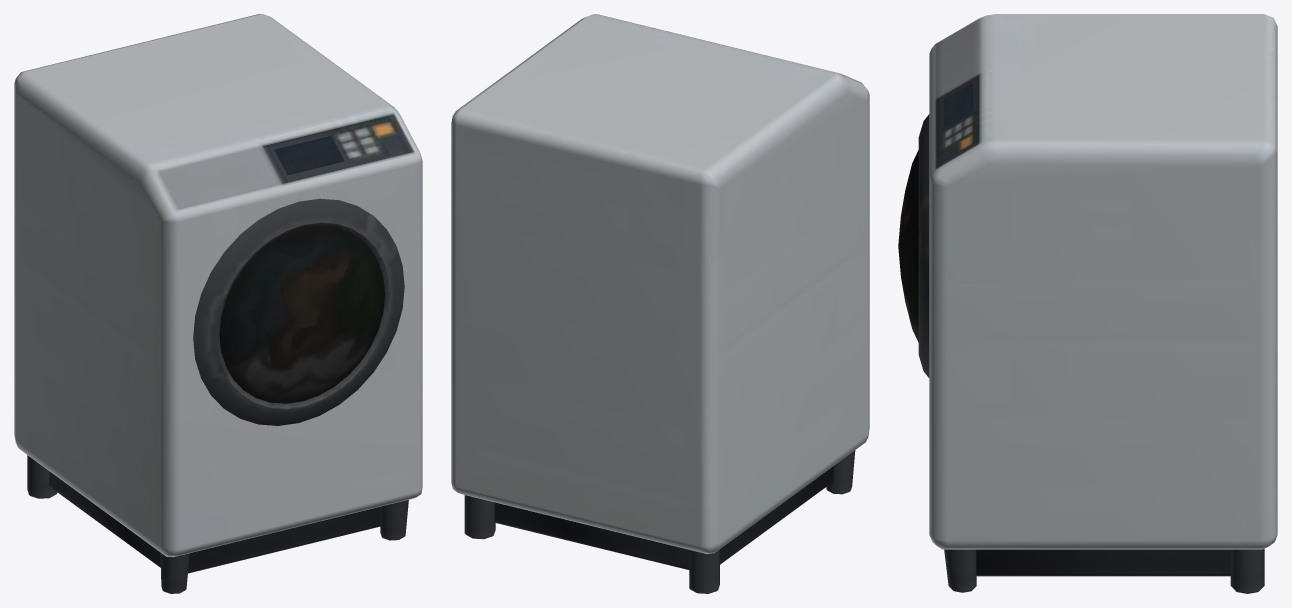
3 views of the same model, side by side, from view 1: azimuth 30°, elevation 25°; view 2: azimuth 150°, elevation 25°; view 3: azimuth 270°, elevation 25° (orthographic). The views are drawn at different scales.
Size of the model in its own units: 6.97 by 10.67 by 8.11.
Materials: 3 (3 with a texture image).
